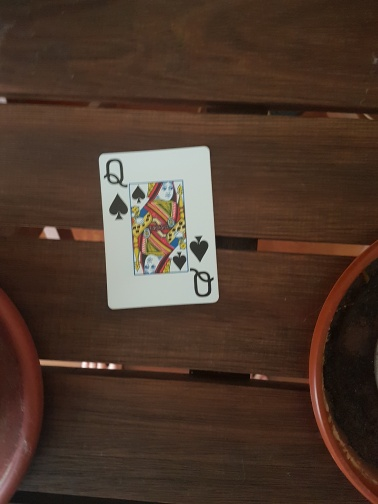queen: (97, 146, 220, 310)
